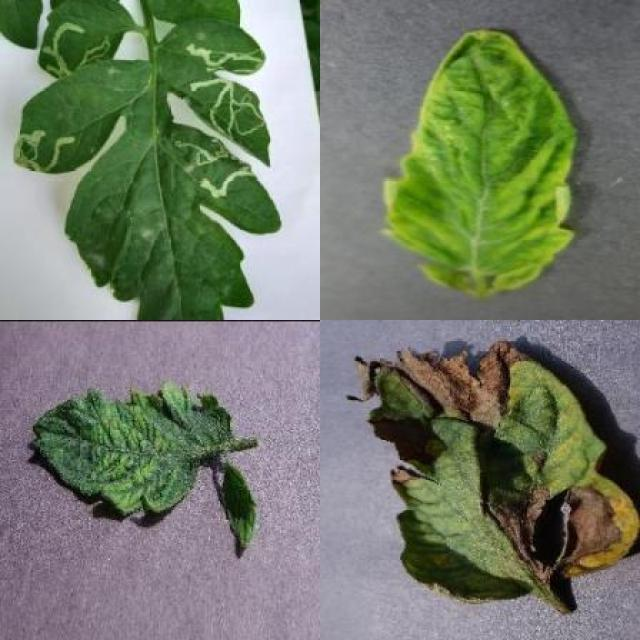Late Blight: (347, 343, 640, 610)
Leaf Miner: (13, 19, 281, 320), (38, 0, 136, 79)
Mosaic Virus: (32, 379, 235, 514), (220, 469, 257, 554)
Yellow Leaf Curl Virus: (382, 29, 578, 298)
